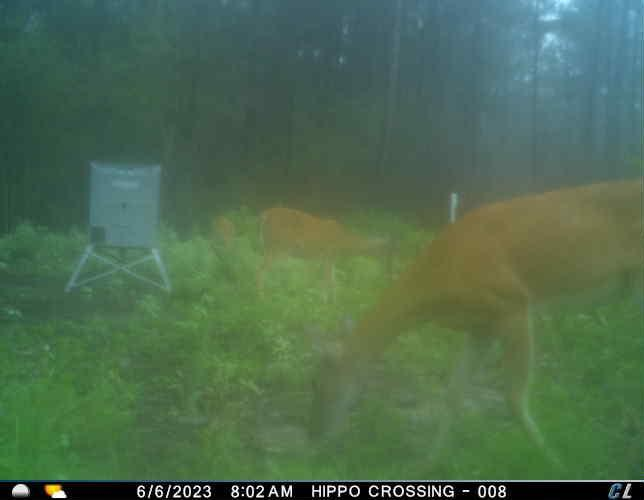Deer: (302, 177, 644, 474), (251, 206, 402, 309), (209, 210, 239, 259)
